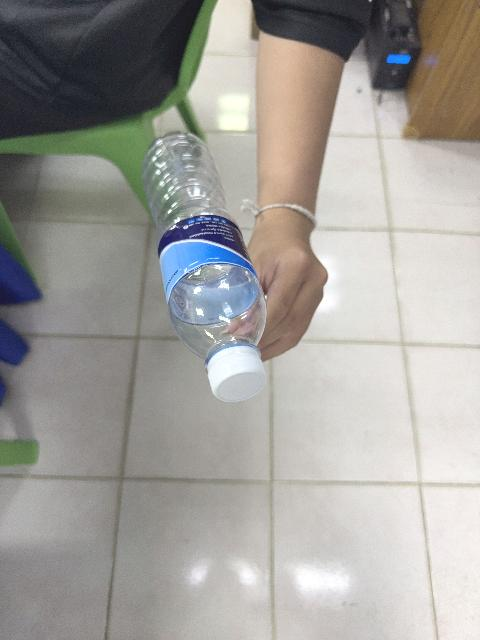bottle: (142, 133, 265, 401)
